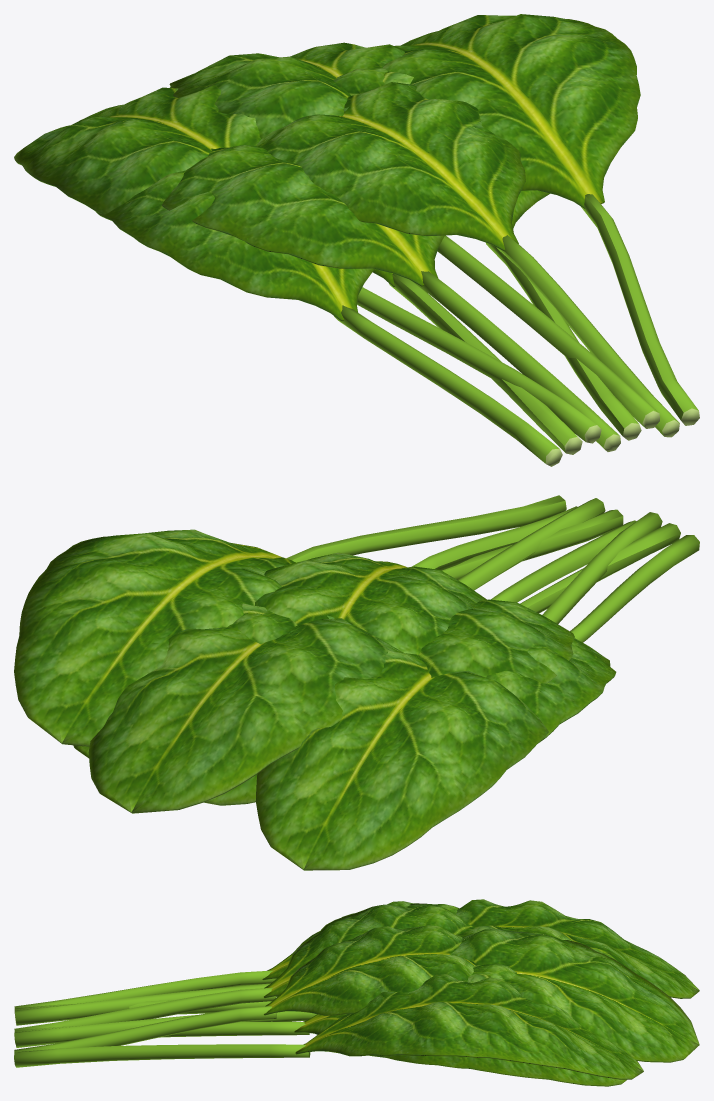
Rendered from NP_Spinach_Harvest.fbx.
3 views of the same model, one above another, from view 1: azimuth 30°, elevation 25°; view 2: azimuth 150°, elevation 25°; view 3: azimuth 270°, elevation 25° (orthographic). The views are drawn at different scales.
Visible parts, largest first — view 1: NP_Spinach_Harvest; view 2: NP_Spinach_Harvest; view 3: NP_Spinach_Harvest.
Boxes of the visible parts, x1,y1,x2,y2 form: NP_Spinach_Harvest: (14,14,699,466); NP_Spinach_Harvest: (14,495,699,870); NP_Spinach_Harvest: (14,899,699,1086).
Size of the model in its own units: 47.54 by 13.52 by 72.15.
